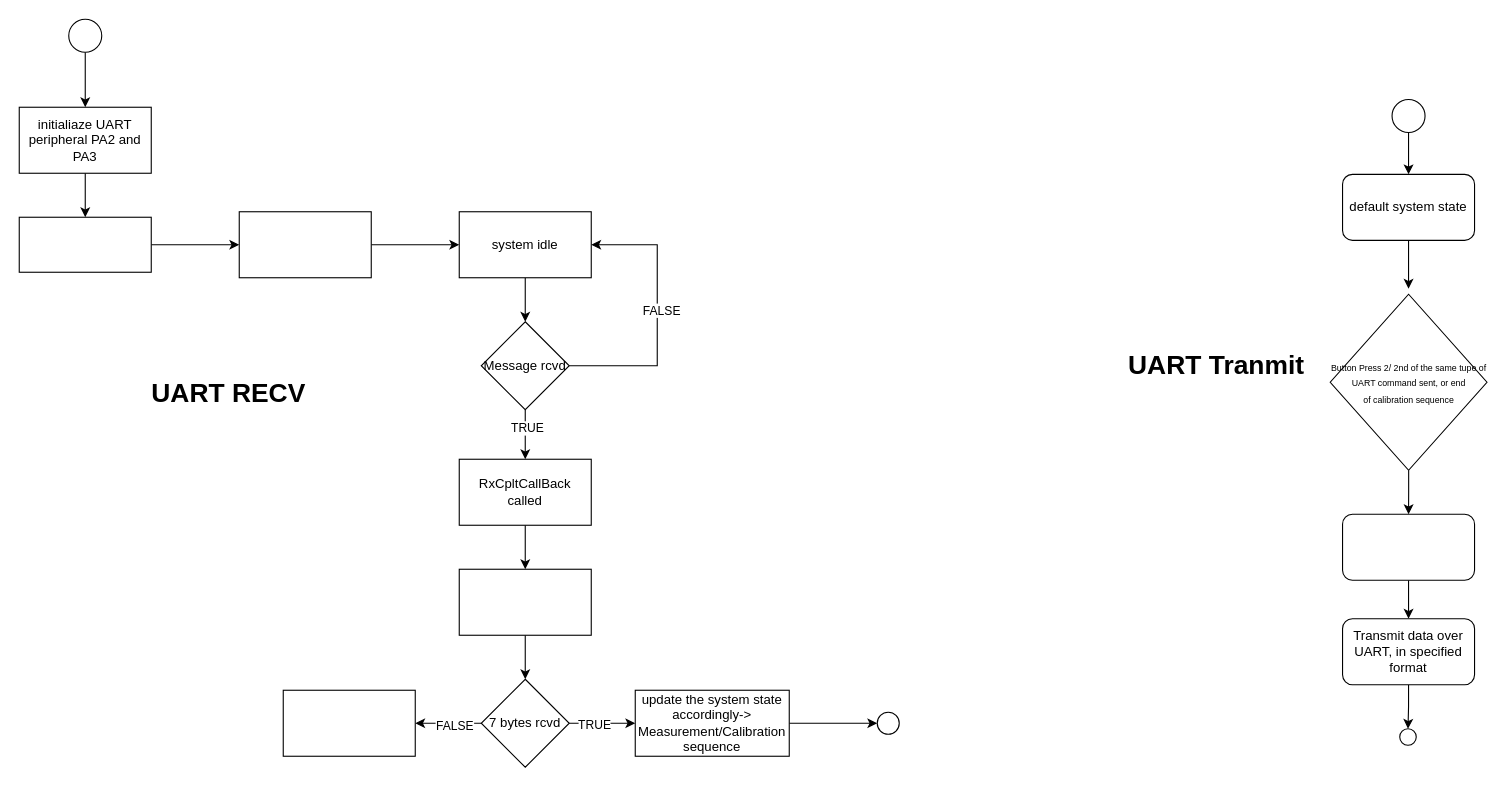
Image size: 1507x787. Some labels were removed from this diagram. The shapes that lost their labels are listed below. From the top down, each one's box as (x1, y1, x2, y2) in pixels, then its label:
(18, 216, 151, 272): Enable interrupts
(238, 211, 371, 278): Initialise bytecount = 0 Run program
(1341, 513, 1475, 580): Write data to string
(458, 568, 591, 635): Recv messg - byte, by byte , increment bytecount
(282, 689, 415, 756): Invalid msg, ignore messae - return invalid string via UART
